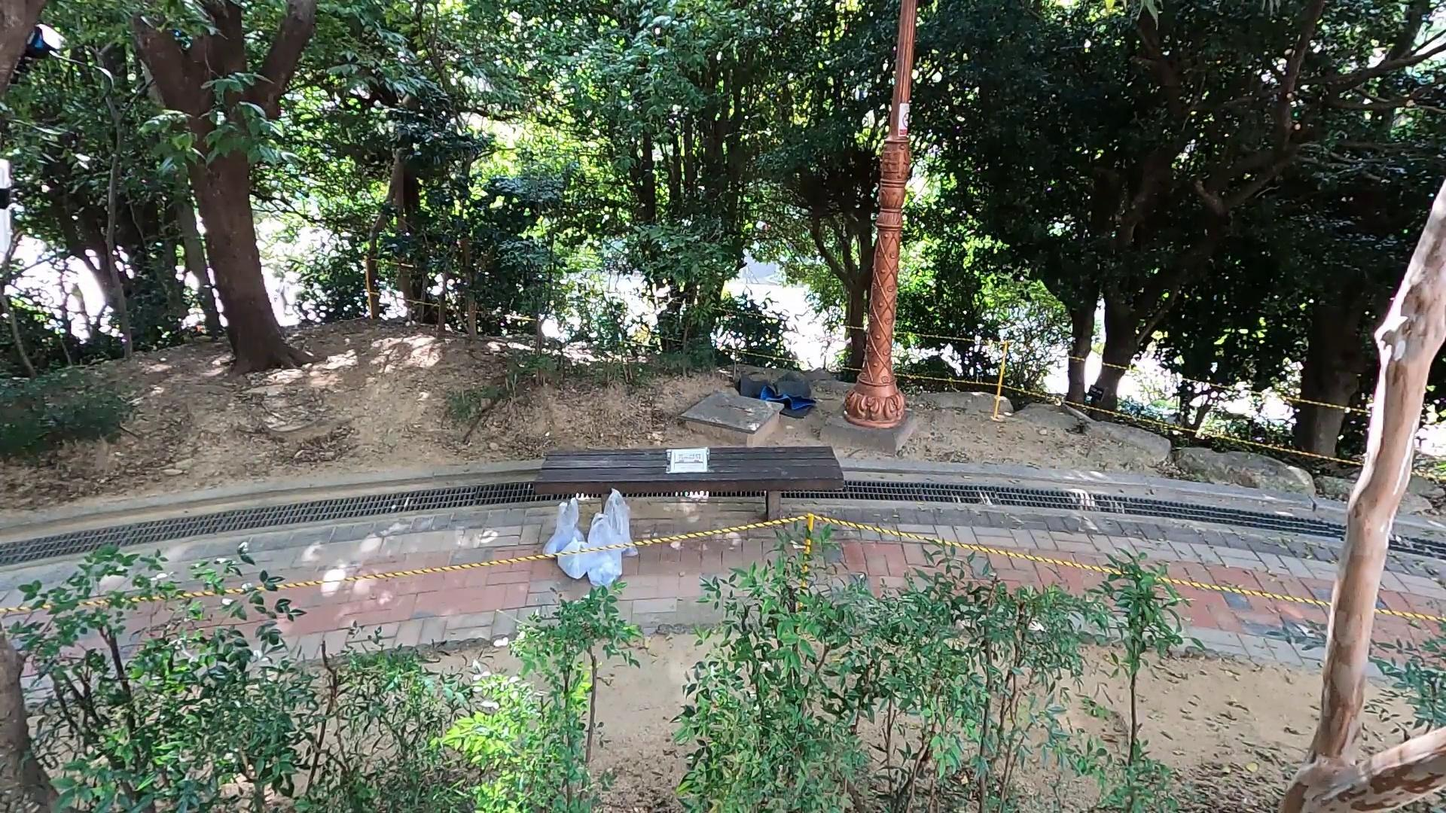trash: (734, 371, 817, 420), (593, 487, 643, 559), (581, 511, 625, 591), (540, 497, 588, 565), (554, 533, 592, 581)
